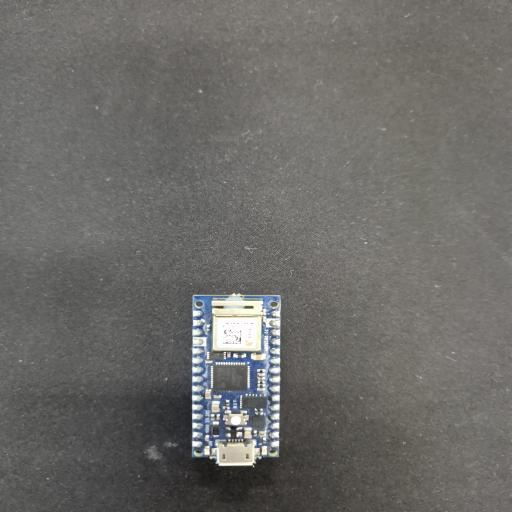arduino-nano-iot-33: (192, 294, 281, 466)
